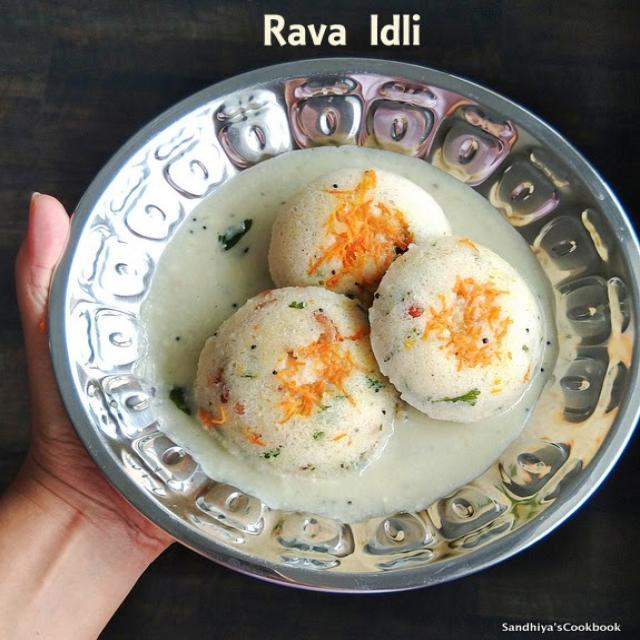chutney: (165, 183, 256, 334)
idli: (200, 284, 395, 473), (368, 232, 546, 422), (266, 166, 460, 312)
